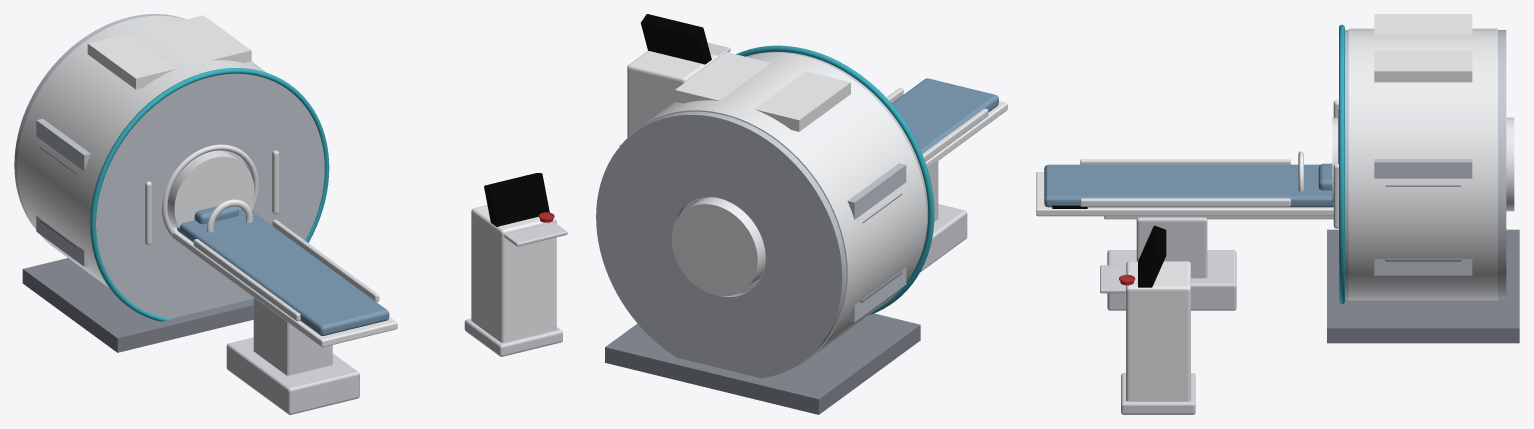
Rendered from MRI_v1.glb.
3 renders of one model, left to right at view 1: azimuth 30°, elevation 25°; view 2: azimuth 150°, elevation 25°; view 3: azimuth 270°, elevation 25°, orthographic. The views are drawn at different scales.
Parts seen in each view (by area): view 1: MRI_Front_Cover, MRI_Gantry_Core, MRI_Table_Cushion, MRI_Console_Body, MRI_Base_Plinth, MRI_Table_Base, MRI_Top_Panel, MRI_Bore_Tunnel, MRI_Accent_Ring, MRI_Table_Column, MRI_Console_Screen, MRI_Table_Surface (+9 smaller); view 2: MRI_Rear_Cover, MRI_Gantry_Core, MRI_Base_Plinth, MRI_Bore_Tunnel, MRI_Top_Panel, MRI_Table_Cushion, MRI_Console_Body, MRI_Accent_Ring, MRI_Console_Screen, MRI_Side_Panel_L, MRI_Table_Base, MRI_Table_Surface (+3 smaller); view 3: MRI_Gantry_Core, MRI_Table_Cushion, MRI_Base_Plinth, MRI_Console_Body, MRI_Top_Panel, MRI_Side_Panel_R, MRI_Table_Surface, MRI_Table_Base, MRI_Table_Column, MRI_Rear_Cover, MRI_Table_Rail_R, MRI_Accent_Ring (+8 smaller).
Boxes of the visible parts, <box> form: MRI_Front_Cover: <box>96,73,324,318</box>; MRI_Gantry_Core: <box>17,15,266,287</box>; MRI_Table_Cushion: <box>177,209,389,335</box>; MRI_Console_Body: <box>471,205,556,342</box>; MRI_Base_Plinth: <box>22,258,253,352</box>; MRI_Table_Base: <box>226,337,359,414</box>; MRI_Top_Panel: <box>87,15,251,89</box>; MRI_Bore_Tunnel: <box>167,150,254,228</box>; MRI_Accent_Ring: <box>90,68,329,321</box>; MRI_Table_Column: <box>253,298,332,375</box>; MRI_Console_Screen: <box>484,173,549,226</box>; MRI_Table_Surface: <box>172,227,397,347</box>; MRI_Rear_Cover: <box>596,111,846,378</box>; MRI_Gantry_Core: <box>622,52,926,371</box>; MRI_Base_Plinth: <box>605,313,920,414</box>; MRI_Bore_Tunnel: <box>672,197,765,296</box>; MRI_Top_Panel: <box>675,52,850,131</box>; MRI_Table_Cushion: <box>891,78,998,153</box>; MRI_Console_Body: <box>627,51,718,137</box>; MRI_Accent_Ring: <box>736,45,934,315</box>; MRI_Console_Screen: <box>640,14,711,64</box>; MRI_Side_Panel_L: <box>847,163,906,322</box>; MRI_Table_Base: <box>920,204,967,272</box>; MRI_Table_Surface: <box>925,101,1007,168</box>; MRI_Gantry_Core: <box>1348,28,1497,300</box>; MRI_Table_Cushion: <box>1044,164,1333,207</box>; MRI_Base_Plinth: <box>1327,229,1519,343</box>; MRI_Console_Body: <box>1126,261,1190,401</box>; MRI_Top_Panel: <box>1374,14,1472,82</box>; MRI_Side_Panel_R: <box>1374,159,1472,275</box>; MRI_Table_Surface: <box>1036,172,1333,216</box>; MRI_Table_Base: <box>1107,250,1236,310</box>; MRI_Table_Column: <box>1136,217,1207,278</box>; MRI_Rear_Cover: <box>1498,30,1506,298</box>; MRI_Table_Rail_R: <box>1080,198,1290,206</box>; MRI_Accent_Ring: <box>1339,24,1344,304</box>.
Bounding box in the file's own units: 3.16 × 2.08 × 3.56.
Materials: 12 (1 with a texture image).
